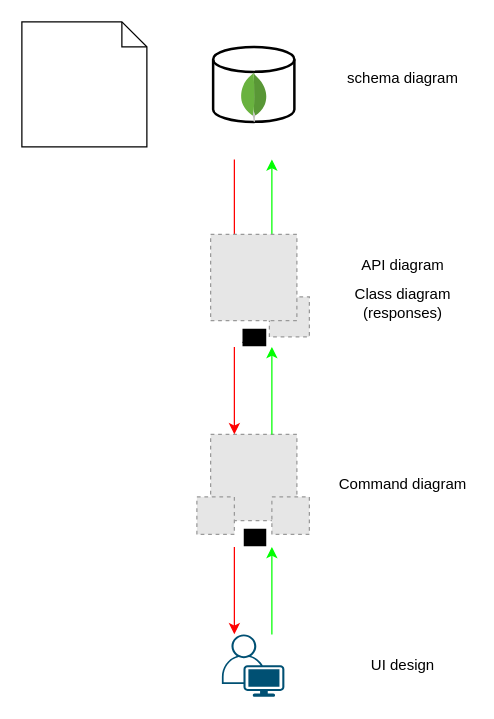
Image size: 494x719. Some labels were removed from this diagram. Grey dashed boxes stand in for pictures. The shapes that lost their labels are listed below. From the top down, each one's centre as x and y in pixels, then its label:
[84,84]: consider self-hosting mongo on docker as well
[253,96]: Database
